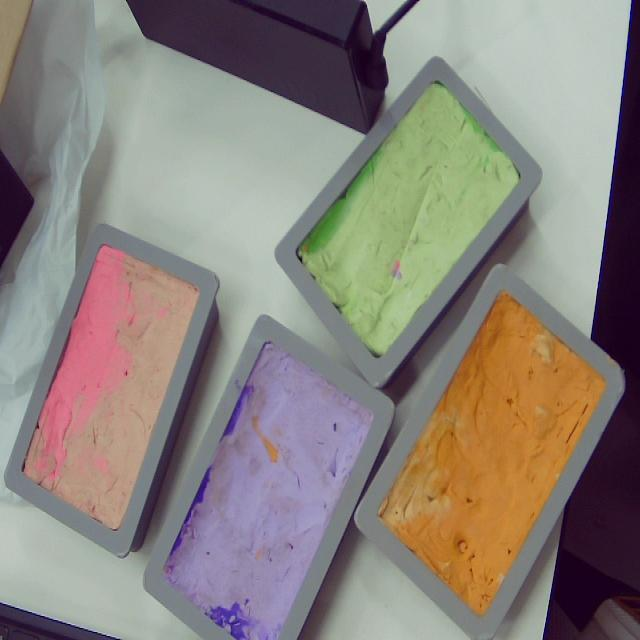block: (352, 265, 625, 640), (276, 58, 542, 390), (141, 313, 390, 640), (3, 222, 221, 558)
